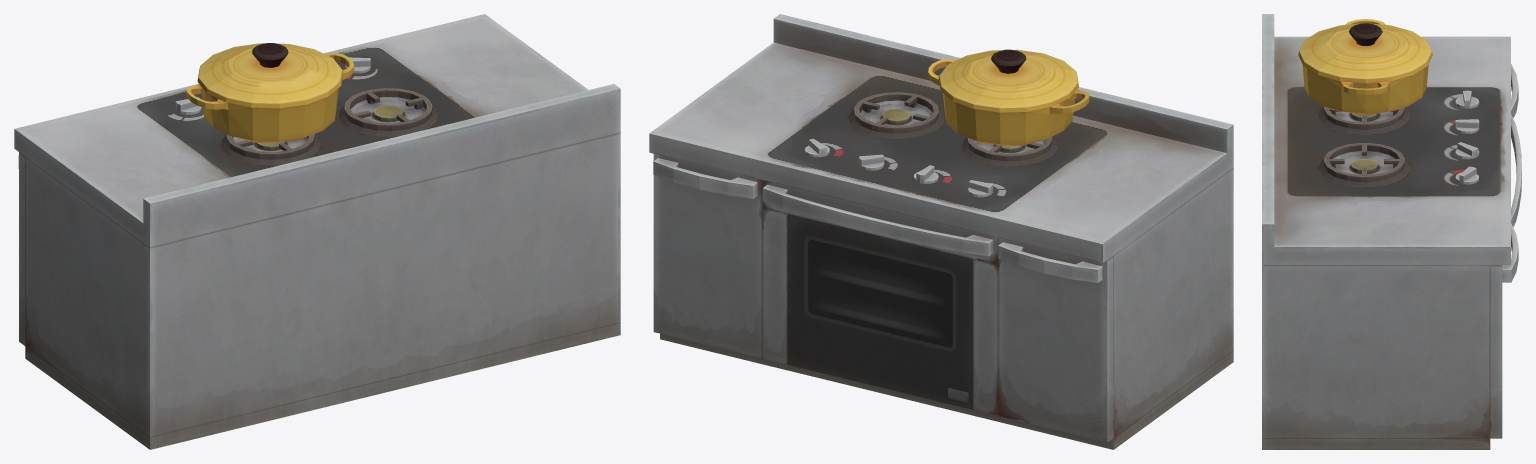
Rendered from P_Furniture_00321.obj.
The picture shows the model from 3 angles, left to right: view 1: azimuth 30°, elevation 25°; view 2: azimuth 150°, elevation 25°; view 3: azimuth 270°, elevation 25°; orthographic projection. The views are drawn at different scales.
Size of the model in its own units: 2 by 1.29 by 1.04.
2 materials, 2 textured.
